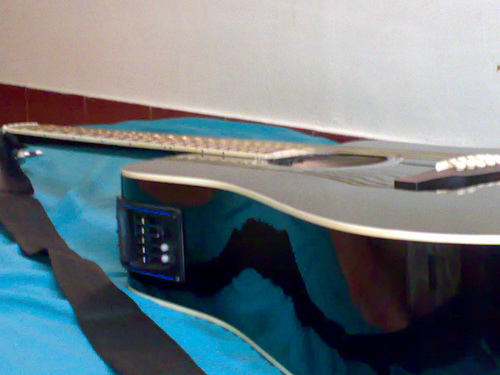guitar: (1, 118, 500, 375)
